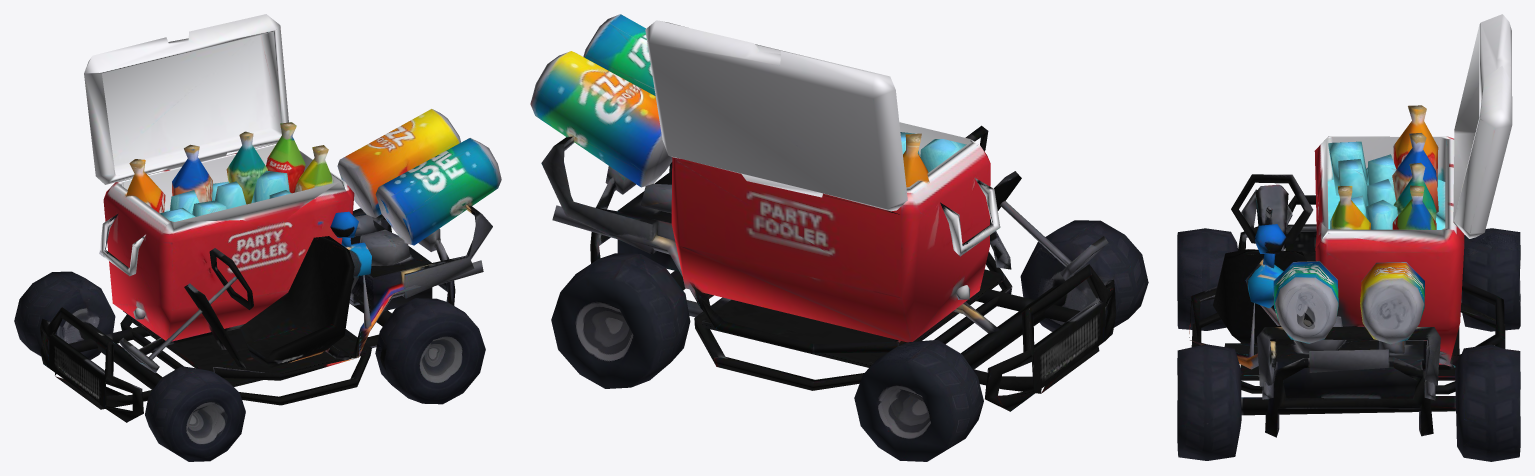
File: party_cooler_cart.glb
3 renders of one model, left to right at view 1: azimuth 30°, elevation 25°; view 2: azimuth 150°, elevation 25°; view 3: azimuth 270°, elevation 25°, orthographic. The views are drawn at different scales.
Bounding box in the file's own units: 1 × 0.7153 × 0.6714.
Materials: 1 (1 with a texture image).
